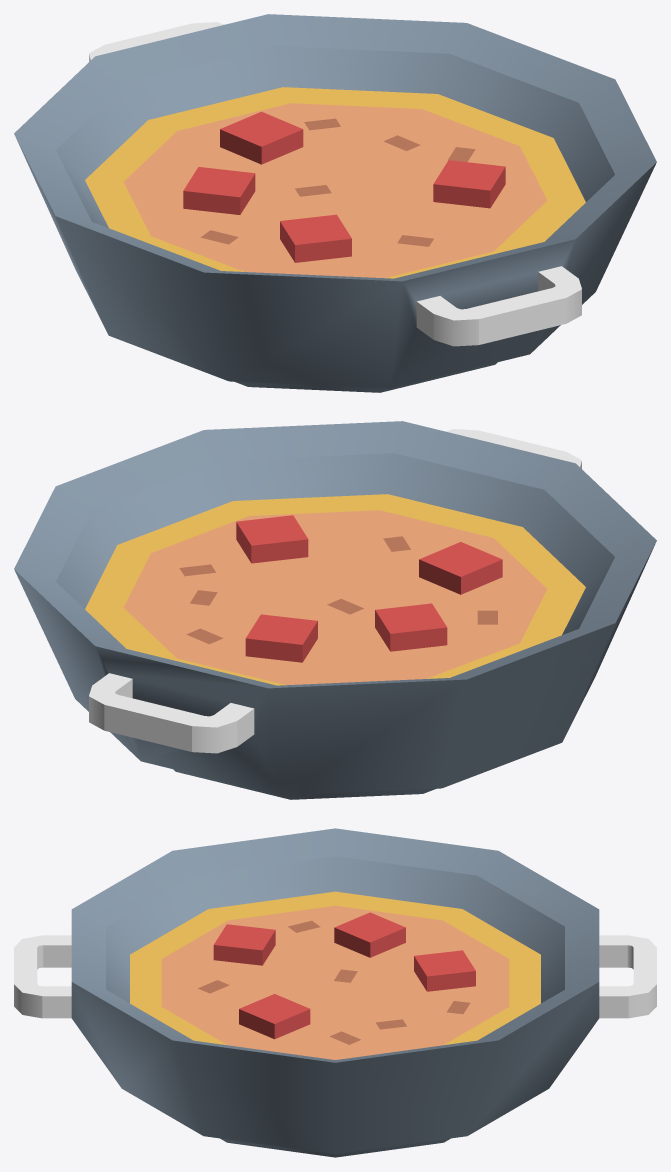
Rendered from panStew.fbx.
3 renders of one model, top to bottom at view 1: azimuth 30°, elevation 25°; view 2: azimuth 150°, elevation 25°; view 3: azimuth 270°, elevation 25°, orthographic. The views are drawn at different scales.
Parts seen in each view (by area): view 1: panStew; view 2: panStew; view 3: panStew.
Boxes of the visible parts, x1=… form: panStew: x1=14, y1=14, x2=656, y2=392; panStew: x1=14, y1=421, x2=656, y2=799; panStew: x1=14, y1=828, x2=656, y2=1157.
Bounding box in the file's own units: 6.57 × 1.75 × 7.62.
